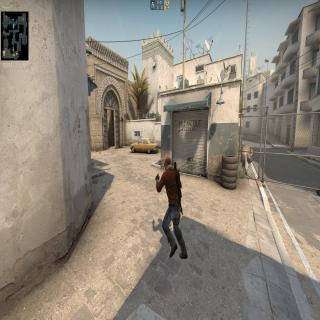T-Head: (164, 154, 172, 172)
